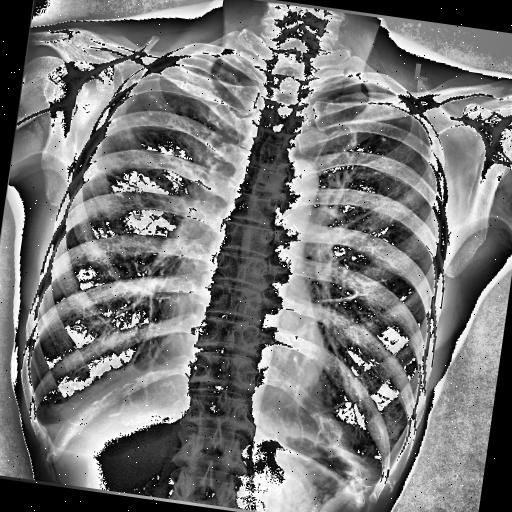10- Pleural effusion: (0, 378, 78, 460), (22, 384, 75, 446), (348, 449, 399, 512), (340, 448, 392, 506), (33, 392, 85, 446), (358, 450, 396, 490)
11- Pleural thickening: (0, 378, 78, 460), (22, 384, 75, 446), (348, 449, 399, 512), (340, 448, 392, 506), (33, 392, 85, 446), (106, 74, 142, 128), (358, 450, 396, 490), (114, 76, 136, 116), (321, 72, 365, 89), (200, 52, 236, 70)
13- Pulmonary fibrosis: (313, 262, 400, 314), (88, 164, 153, 221), (78, 162, 154, 198), (112, 180, 146, 224), (131, 92, 171, 128), (138, 94, 166, 125)
8- Nodule-Mass: (113, 190, 126, 199), (132, 213, 142, 222), (132, 185, 142, 193), (148, 92, 158, 100), (158, 104, 170, 110), (140, 114, 148, 122), (147, 110, 154, 118)
